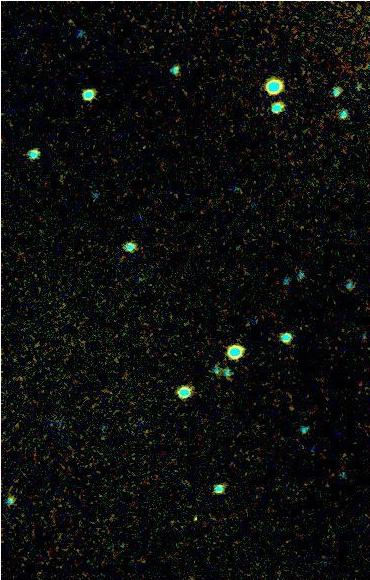star: (181, 501, 211, 531)
